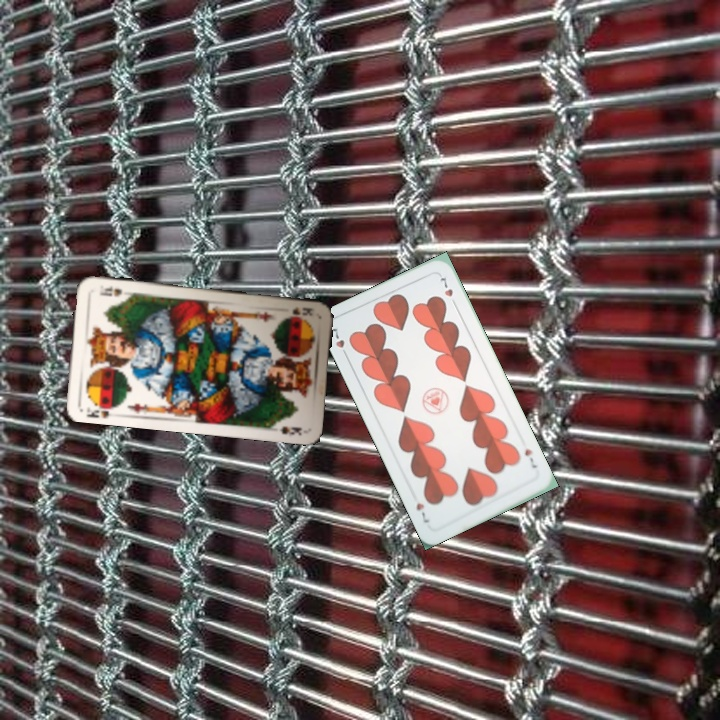H7: (327, 324, 351, 361), (520, 445, 539, 471)
SK: (82, 399, 119, 420), (288, 303, 316, 318)
